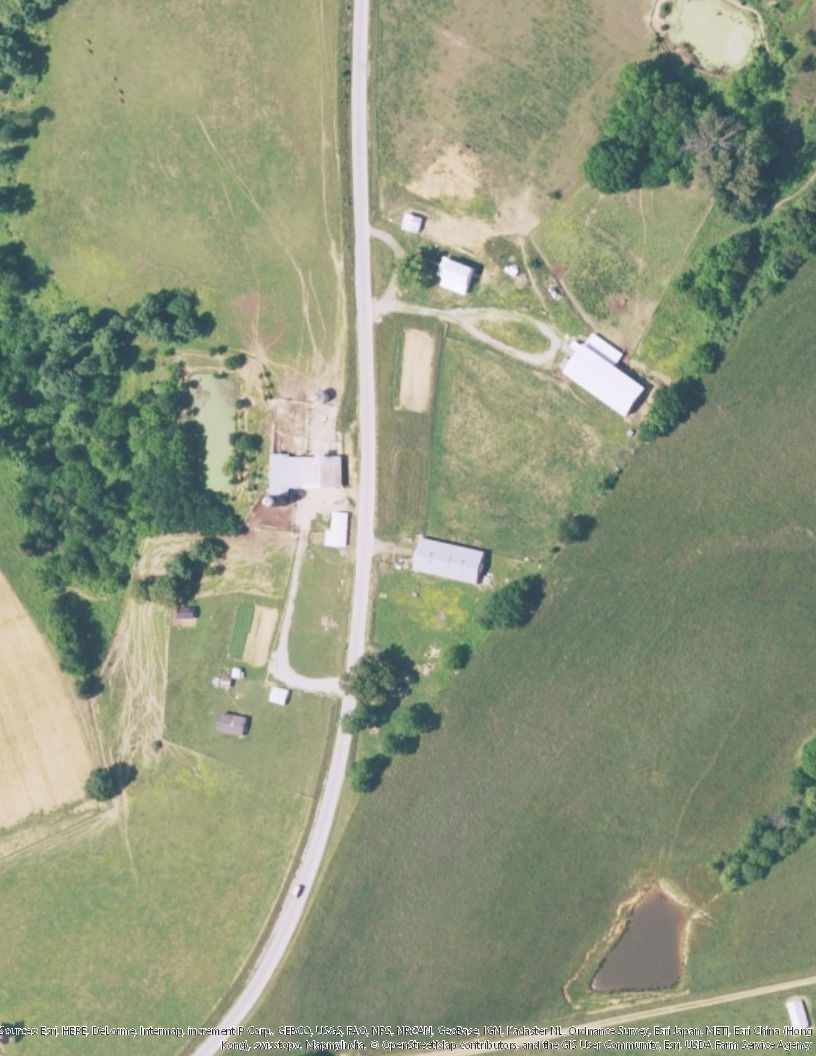cafo: (558, 327, 651, 422), (408, 534, 494, 588), (264, 448, 354, 495)
